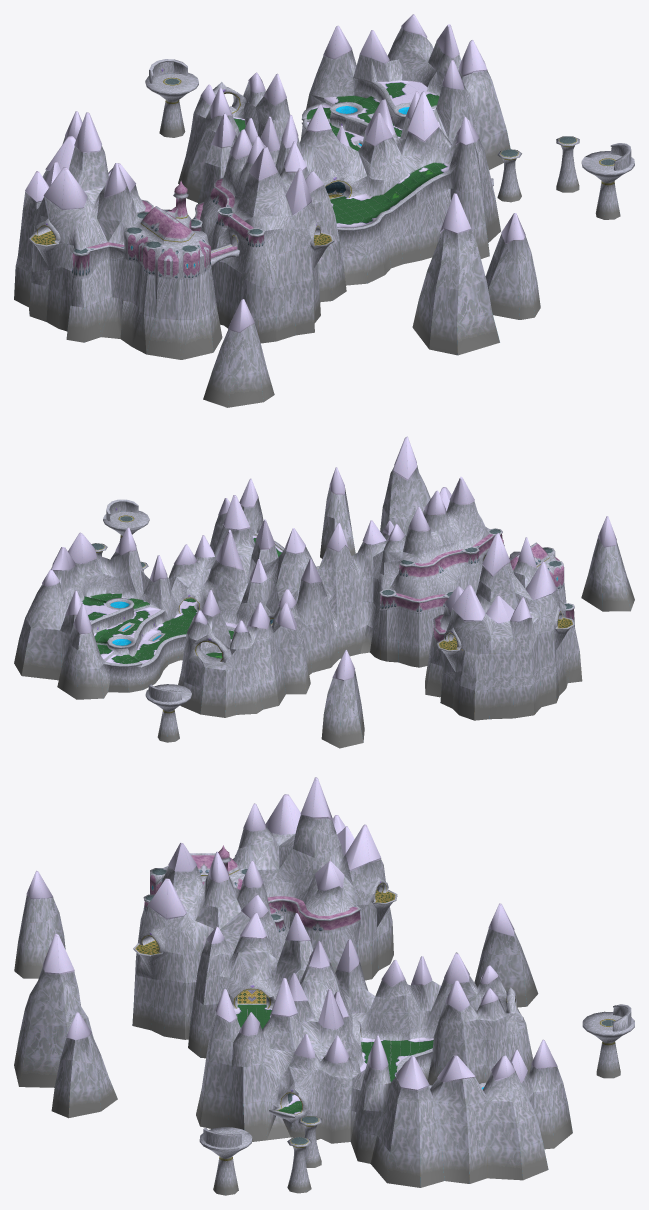
File: wizardpeak.FBX
3 views of the same model, one above another, from view 1: azimuth 30°, elevation 25°; view 2: azimuth 150°, elevation 25°; view 3: azimuth 270°, elevation 25° (orthographic). The views are drawn at different scales.
Parts seen in each view (by area): view 1: tex_135, tex_144; view 2: tex_135, tex_22, tex_68; view 3: tex_135.
Part boxes in pixels (x1,y1,x2,y2): tex_135: (14, 14, 634, 407); tex_144: (454, 189, 485, 230); tex_135: (14, 436, 634, 748); tex_22: (200, 690, 225, 717); tex_68: (274, 626, 300, 647); tex_135: (14, 777, 634, 1195).
Bounding box in the file's own units: 8682 × 2699 × 8289.
1 material, 1 textured.
